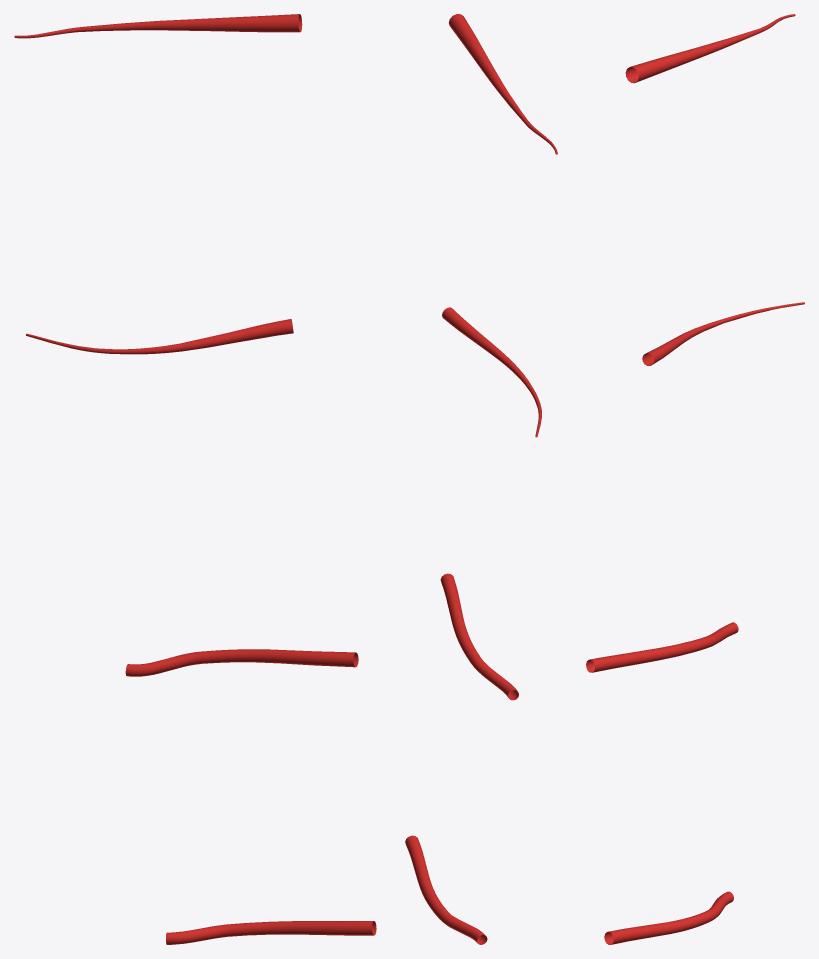
Rendered from circulatorio-perforating-veins-r.glb.
The picture shows the model from 3 angles, left to right: view 1: azimuth 30°, elevation 25°; view 2: azimuth 150°, elevation 25°; view 3: azimuth 270°, elevation 25°; orthographic projection. The views are drawn at different scales.
Parts seen in each view (by area): view 1: Perforating veins.r; view 2: Perforating veins.r; view 3: Perforating veins.r.
Part boxes in pixels (bbox=[...]): Perforating veins.r: bbox=[14, 14, 376, 944]; Perforating veins.r: bbox=[405, 14, 557, 944]; Perforating veins.r: bbox=[586, 14, 804, 944].
Size of the model in its own units: 0.049 by 0.1687 by 0.0384.
